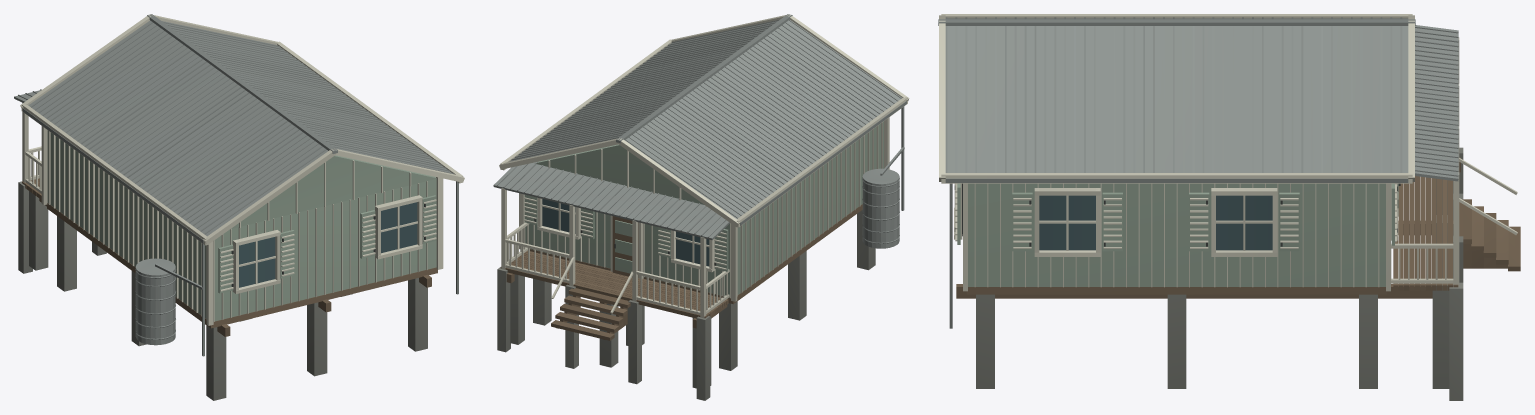
Rendered from plantation-cottage.glb.
3 views of the same model, side by side, from view 1: azimuth 30°, elevation 25°; view 2: azimuth 150°, elevation 25°; view 3: azimuth 270°, elevation 25° (orthographic). The views are drawn at different scales.
Parts seen in each view (by area): view 1: Plantation cottage editable Oxidised corrugated iron.003, Plantation cottage editable Painted sage timber.003, Plantation cottage editable Sun bleached trim.003, Plantation cottage editable Concrete foundation piers.003, Plantation cottage editable Recessed window glass.003, Plantation cottage editable Porch hardwood.003; view 2: Plantation cottage editable Oxidised corrugated iron.003, Plantation cottage editable Sun bleached trim.003, Plantation cottage editable Painted sage timber.003, Plantation cottage editable Concrete foundation piers.003, Plantation cottage editable Porch hardwood.003, Plantation cottage editable Recessed window glass.003; view 3: Plantation cottage editable Oxidised corrugated iron.003, Plantation cottage editable Painted sage timber.003, Plantation cottage editable Sun bleached trim.003, Plantation cottage editable Porch hardwood.003, Plantation cottage editable Concrete foundation piers.003, Plantation cottage editable Recessed window glass.003.
Part boxes in pixels (x1=…): Plantation cottage editable Oxidised corrugated iron.003: x1=14, y1=14, x2=458, y2=356; Plantation cottage editable Painted sage timber.003: x1=47, y1=130, x2=436, y2=321; Plantation cottage editable Sun bleached trim.003: x1=20, y1=14, x2=464, y2=325; Plantation cottage editable Concrete foundation piers.003: x1=18, y1=181, x2=427, y2=400; Plantation cottage editable Recessed window glass.003: x1=239, y1=202, x2=417, y2=287; Plantation cottage editable Porch hardwood.003: x1=22, y1=178, x2=437, y2=336; Plantation cottage editable Oxidised corrugated iron.003: x1=493, y1=14, x2=906, y2=248; Plantation cottage editable Sun bleached trim.003: x1=499, y1=14, x2=909, y2=318; Plantation cottage editable Painted sage timber.003: x1=524, y1=121, x2=883, y2=297; Plantation cottage editable Concrete foundation piers.003: x1=497, y1=210, x2=875, y2=400; Plantation cottage editable Porch hardwood.003: x1=500, y1=204, x2=862, y2=340; Plantation cottage editable Recessed window glass.003: x1=542, y1=199, x2=709, y2=266; Plantation cottage editable Oxidised corrugated iron.003: x1=938, y1=17, x2=1458, y2=328; Plantation cottage editable Painted sage timber.003: x1=957, y1=183, x2=1398, y2=286; Plantation cottage editable Sun bleached trim.003: x1=939, y1=14, x2=1517, y2=291; Plantation cottage editable Porch hardwood.003: x1=956, y1=157, x2=1520, y2=298; Plantation cottage editable Concrete foundation piers.003: x1=976, y1=147, x2=1463, y2=400; Plantation cottage editable Recessed window glass.003: x1=1039, y1=195, x2=1272, y2=250.
Size of the model in its own units: 10.09 by 8.13 by 13.85.
